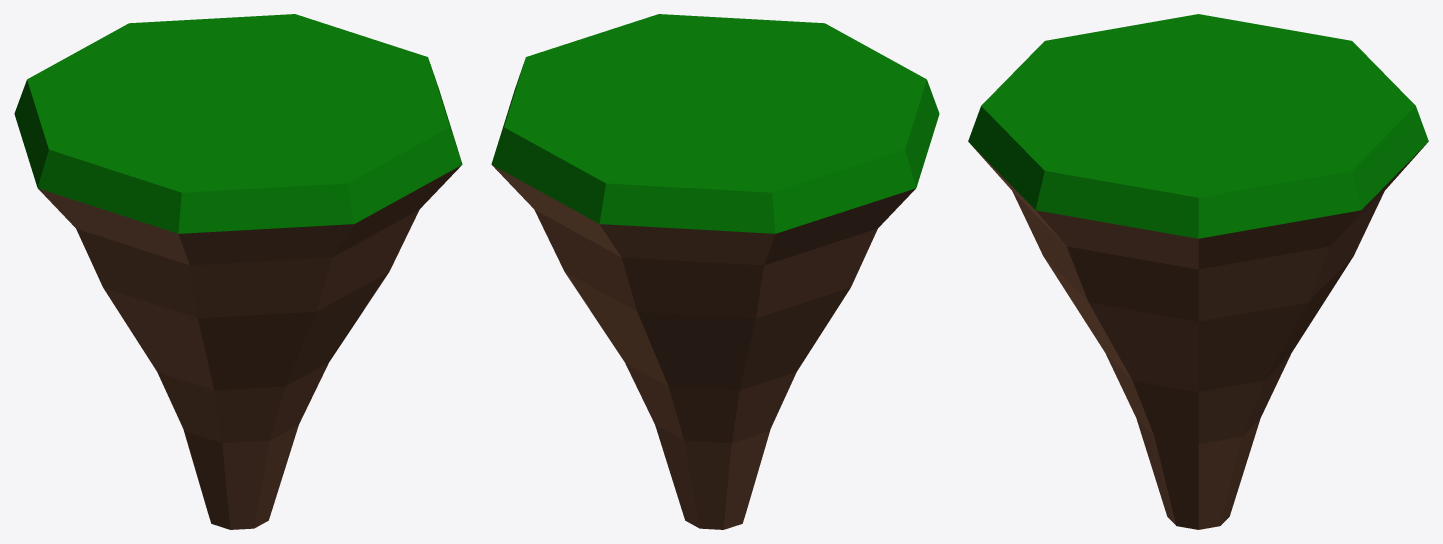
Rendered from island_small.glb.
3 renders of one model, left to right at view 1: azimuth 30°, elevation 25°; view 2: azimuth 150°, elevation 25°; view 3: azimuth 270°, elevation 25°, orthographic.
Parts seen in each view (by area): view 1: Island_Small; view 2: Island_Small; view 3: Island_Small.
Part boxes in pixels (<box>): Island_Small: <box>14,14,462,529</box>; Island_Small: <box>491,14,939,529</box>; Island_Small: <box>968,14,1428,529</box>.
Bounding box in the file's own units: 21.2 × 20.86 × 21.2.
Materials: 1 (1 with a texture image).
